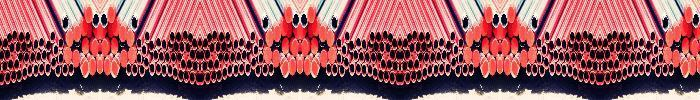pipe: (303, 58, 311, 75), (289, 58, 297, 75), (489, 58, 497, 75), (103, 58, 111, 75), (503, 58, 511, 75), (89, 58, 97, 75), (689, 58, 697, 75), (307, 6, 314, 23), (319, 25, 326, 42), (327, 30, 334, 47), (301, 40, 308, 57), (320, 50, 327, 67), (286, 6, 293, 23), (486, 6, 493, 23), (107, 6, 114, 23), (507, 6, 514, 23), (86, 6, 93, 23), (686, 6, 693, 23), (274, 25, 281, 42), (474, 25, 481, 42), (119, 25, 126, 42), (519, 25, 526, 42), (74, 25, 81, 42), (674, 25, 681, 42), (266, 30, 273, 47), (466, 30, 473, 47), (127, 30, 134, 47), (527, 30, 534, 47), (66, 30, 73, 47), (666, 30, 673, 47), (292, 40, 299, 57), (492, 40, 499, 57), (101, 40, 108, 57), (501, 40, 508, 57), (92, 40, 99, 57), (692, 40, 699, 57), (273, 50, 280, 67), (473, 50, 480, 67), (120, 50, 127, 67), (520, 50, 527, 67), (73, 50, 80, 67), (673, 50, 680, 67), (307, 22, 314, 38), (312, 20, 319, 36), (311, 38, 318, 54), (311, 61, 318, 77), (328, 47, 335, 63), (286, 22, 293, 38), (486, 22, 493, 38), (107, 22, 114, 38), (507, 22, 514, 38), (86, 22, 93, 38), (686, 22, 693, 38), (281, 20, 288, 36), (481, 20, 488, 36), (112, 20, 119, 36), (512, 20, 519, 36), (81, 20, 88, 36), (681, 20, 688, 36), (282, 38, 289, 54), (482, 38, 489, 54), (111, 38, 118, 54), (511, 38, 518, 54), (82, 38, 89, 54), (682, 38, 689, 54), (282, 61, 289, 77), (482, 61, 489, 77), (111, 61, 118, 77), (511, 61, 518, 77), (82, 61, 89, 77), (682, 61, 689, 77), (265, 47, 272, 63), (465, 47, 472, 63), (128, 47, 135, 63), (528, 47, 535, 63), (65, 47, 72, 63), (665, 47, 672, 63), (331, 17, 337, 31), (263, 17, 269, 31), (463, 17, 469, 31), (131, 17, 137, 31), (531, 17, 537, 31), (63, 17, 69, 31), (663, 17, 669, 31), (301, 14, 307, 27), (293, 14, 299, 27), (493, 14, 499, 27), (101, 14, 107, 27), (501, 14, 507, 27), (93, 14, 99, 27), (693, 14, 699, 27), (344, 31, 350, 43), (349, 63, 355, 75), (250, 31, 256, 43), (450, 31, 456, 43), (144, 31, 150, 43), (544, 31, 550, 43), (50, 31, 56, 43), (650, 31, 656, 43), (245, 63, 251, 75), (445, 63, 451, 75), (149, 63, 155, 75), (549, 63, 555, 75), (45, 63, 51, 75), (645, 63, 651, 75), (339, 65, 345, 76), (341, 45, 347, 56), (255, 65, 261, 76), (455, 65, 461, 76), (139, 65, 145, 76), (539, 65, 545, 76), (55, 65, 61, 76), (655, 65, 661, 76), (253, 45, 259, 56), (453, 45, 459, 56), (141, 45, 147, 56), (541, 45, 547, 56), (53, 45, 59, 56), (653, 45, 659, 56), (332, 64, 337, 76), (337, 38, 342, 50), (349, 40, 354, 52), (362, 64, 367, 76), (370, 31, 375, 43), (383, 30, 388, 42), (385, 42, 390, 54), (387, 59, 392, 71), (390, 49, 395, 61), (263, 64, 268, 76), (463, 64, 468, 76), (132, 64, 137, 76), (532, 64, 537, 76), (63, 64, 68, 76), (663, 64, 668, 76), (258, 38, 263, 50), (458, 38, 463, 50), (137, 38, 142, 50), (537, 38, 542, 50), (58, 38, 63, 50), (658, 38, 663, 50), (246, 40, 251, 52), (446, 40, 451, 52), (149, 40, 154, 52), (549, 40, 554, 52), (46, 40, 51, 52), (646, 40, 651, 52), (233, 64, 238, 76), (433, 64, 438, 76), (162, 64, 167, 76), (562, 64, 567, 76), (33, 64, 38, 76), (633, 64, 638, 76), (225, 31, 230, 43), (425, 31, 430, 43), (170, 31, 175, 43), (570, 31, 575, 43), (25, 31, 30, 43), (625, 31, 630, 43), (212, 30, 217, 42), (412, 30, 417, 42), (183, 30, 188, 42), (583, 30, 588, 42), (12, 30, 17, 42), (612, 30, 617, 42), (210, 42, 215, 54), (410, 42, 415, 54), (185, 42, 190, 54), (585, 42, 590, 54), (10, 42, 15, 54), (610, 42, 615, 54), (208, 59, 213, 71), (408, 59, 413, 71), (187, 59, 192, 71), (587, 59, 592, 71), (8, 59, 13, 71), (608, 59, 613, 71), (205, 49, 210, 61), (405, 49, 410, 61), (190, 49, 195, 61), (590, 49, 595, 61), (5, 49, 10, 61), (605, 49, 610, 61), (326, 64, 331, 75), (353, 50, 358, 61), (359, 52, 364, 63), (356, 38, 361, 49), (356, 63, 361, 74), (365, 52, 370, 63), (376, 32, 381, 43), (374, 41, 379, 52), (373, 68, 378, 79), (378, 70, 383, 81), (381, 59, 386, 70), (377, 53, 382, 64), (388, 33, 393, 44), (392, 38, 397, 49), (384, 71, 389, 82), (393, 62, 398, 73), (269, 64, 274, 75), (469, 64, 474, 75), (126, 64, 131, 75), (526, 64, 531, 75), (69, 64, 74, 75), (669, 64, 674, 75), (242, 50, 247, 61), (442, 50, 447, 61), (153, 50, 158, 61), (553, 50, 558, 61), (42, 50, 47, 61), (642, 50, 647, 61), (236, 52, 241, 63), (436, 52, 441, 63), (159, 52, 164, 63), (559, 52, 564, 63), (36, 52, 41, 63), (636, 52, 641, 63), (239, 38, 244, 49), (439, 38, 444, 49), (156, 38, 161, 49), (556, 38, 561, 49), (39, 38, 44, 49), (639, 38, 644, 49), (239, 63, 244, 74), (439, 63, 444, 74), (156, 63, 161, 74), (556, 63, 561, 74), (39, 63, 44, 74), (639, 63, 644, 74), (230, 52, 235, 63), (430, 52, 435, 63), (165, 52, 170, 63), (565, 52, 570, 63), (30, 52, 35, 63), (630, 52, 635, 63), (219, 32, 224, 43), (419, 32, 424, 43), (176, 32, 181, 43), (576, 32, 581, 43), (19, 32, 24, 43), (619, 32, 624, 43), (221, 41, 226, 52), (421, 41, 426, 52), (174, 41, 179, 52), (574, 41, 579, 52), (21, 41, 26, 52), (621, 41, 626, 52), (222, 68, 227, 79), (422, 68, 427, 79), (173, 68, 178, 79), (573, 68, 578, 79), (22, 68, 27, 79), (622, 68, 627, 79), (217, 70, 222, 81), (417, 70, 422, 81), (178, 70, 183, 81), (578, 70, 583, 81), (17, 70, 22, 81), (617, 70, 622, 81), (214, 59, 219, 70), (414, 59, 419, 70), (181, 59, 186, 70), (581, 59, 586, 70), (14, 59, 19, 70), (614, 59, 619, 70), (218, 53, 223, 64), (418, 53, 423, 64), (177, 53, 182, 64), (577, 53, 582, 64), (18, 53, 23, 64), (618, 53, 623, 64), (207, 33, 212, 44), (407, 33, 412, 44), (188, 33, 193, 44), (588, 33, 593, 44), (7, 33, 12, 44), (607, 33, 612, 44), (203, 38, 208, 49), (403, 38, 408, 49), (192, 38, 197, 49), (592, 38, 597, 49), (3, 38, 8, 49), (603, 38, 608, 49), (211, 71, 216, 82), (411, 71, 416, 82), (184, 71, 189, 82), (584, 71, 589, 82), (11, 71, 16, 82), (611, 71, 616, 82), (202, 62, 207, 73), (402, 62, 407, 73), (193, 62, 198, 73), (593, 62, 598, 73), (2, 62, 7, 73), (602, 62, 607, 73), (319, 38, 325, 47), (275, 38, 281, 47), (475, 38, 481, 47), (119, 38, 125, 47), (519, 38, 525, 47), (75, 38, 81, 47), (675, 38, 681, 47), (336, 54, 341, 64), (344, 58, 349, 68), (361, 40, 366, 50), (368, 40, 373, 50), (371, 53, 376, 63), (259, 54, 264, 64), (459, 54, 464, 64), (136, 54, 141, 64), (536, 54, 541, 64), (59, 54, 64, 64), (659, 54, 664, 64), (251, 58, 256, 68), (451, 58, 456, 68), (144, 58, 149, 68), (544, 58, 549, 68), (51, 58, 56, 68), (651, 58, 656, 68), (234, 40, 239, 50), (434, 40, 439, 50), (161, 40, 166, 50), (561, 40, 566, 50), (34, 40, 39, 50), (634, 40, 639, 50), (227, 40, 232, 50), (427, 40, 432, 50), (168, 40, 173, 50), (568, 40, 573, 50), (27, 40, 32, 50), (627, 40, 632, 50), (224, 53, 229, 63), (424, 53, 429, 63), (171, 53, 176, 63), (571, 53, 576, 63), (24, 53, 29, 63), (624, 53, 629, 63), (390, 72, 394, 84), (206, 72, 210, 84), (406, 72, 410, 84), (190, 72, 194, 84), (590, 72, 594, 84), (6, 72, 10, 84), (606, 72, 610, 84), (368, 65, 372, 76), (380, 42, 384, 53), (228, 65, 232, 76), (428, 65, 432, 76), (168, 65, 172, 76), (568, 65, 572, 76), (28, 65, 32, 76), (628, 65, 632, 76), (216, 42, 220, 53), (416, 42, 420, 53), (180, 42, 184, 53), (580, 42, 584, 53), (16, 42, 20, 53), (616, 42, 620, 53)
